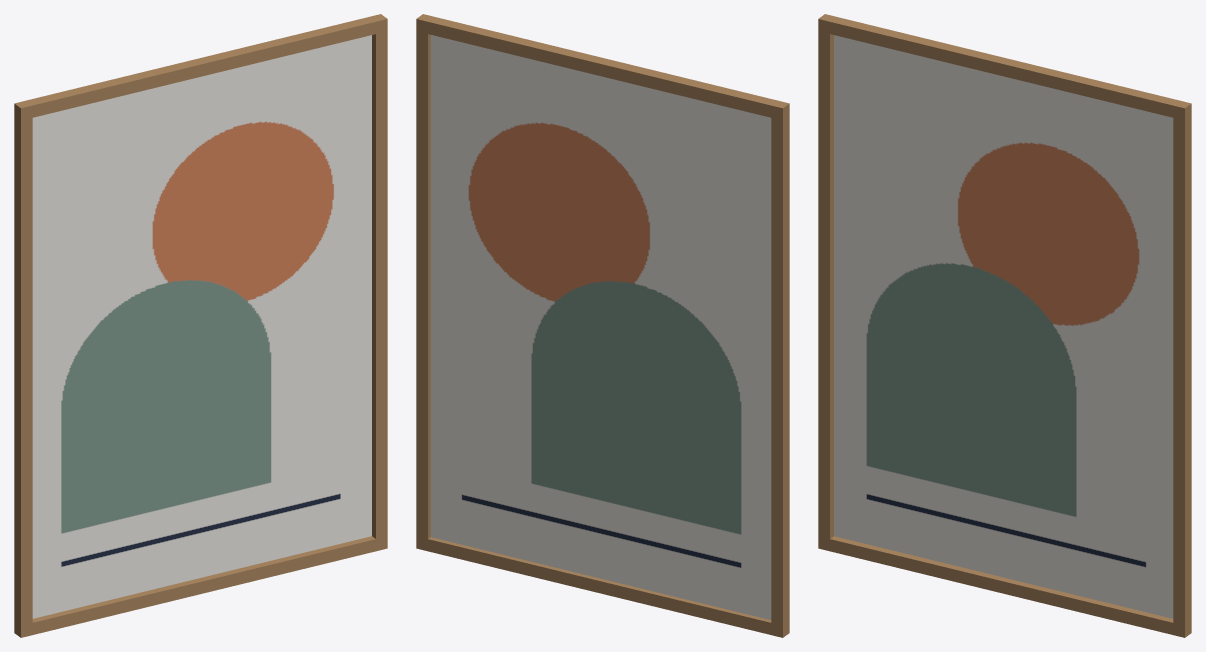
The model's file is Deco_Poster.gltf.
The picture shows the model from 3 angles, left to right: view 1: azimuth 30°, elevation 25°; view 2: azimuth 150°, elevation 25°; view 3: azimuth 330°, elevation 25°; orthographic projection.
Visible parts, largest first — view 1: Deco_Poster; view 2: Deco_Poster; view 3: Deco_Poster.
Part boxes in pixels (box(x1,y1,x2,y2)): Deco_Poster: box(14, 14, 387, 637); Deco_Poster: box(416, 14, 789, 637); Deco_Poster: box(818, 14, 1191, 637).
Size of the model in its own units: 0.626 by 0.864 by 0.02.
Materials: 2 (1 with a texture image).
